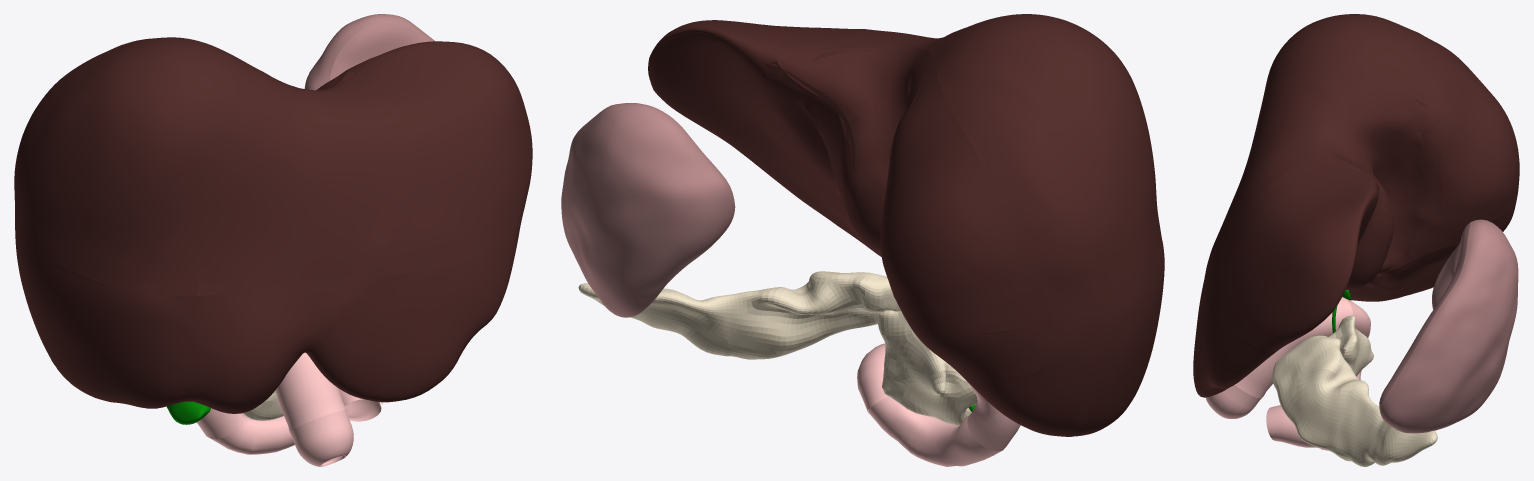
Rendered from hra-female-abdomen-visceral-01.glb.
The picture shows the model from 3 angles, left to right: view 1: azimuth 30°, elevation 25°; view 2: azimuth 150°, elevation 25°; view 3: azimuth 270°, elevation 25°; orthographic projection. The views are drawn at different scales.
Parts seen in each view (by area): view 1: VH_F_capsule_of_the_liver, VH_F_left_superomedial_segment1, VH_F_left_inferomedial_segment, VH_F_right_anterosuperior_segment, VH_F_right_anteroinferior_segment, VH_F_duodenum_superior, VH_F_left_superomedial_segment, VH_F_duodenal_ampulla, VH_F_gastric_surface_of_spleen, VH_F_duodenum_horizontal, VH_F_diaphragmatic_surface_of_spleen, VH_F_duodenum_descending (+4 smaller); view 2: VH_F_capsule_of_the_liver, VH_F_bare_area_of_liver, VH_F_diaphragmatic_surface_of_spleen, VH_F_left_superomedial_segment, VH_F_tail_of_pancreas, VH_F_body_of_pancreas, VH_F_diaphragmatic_surface_of_liver, VH_F_right_posterosuperior_segment, VH_F_caudate_lobe, VH_F_head_of_pancreas, VH_F_duodenum_horizontal, VH_F_gastric_impression_of_liver (+8 smaller); view 3: VH_F_capsule_of_the_liver, VH_F_bare_area_of_liver, VH_F_diaphragmatic_surface_of_spleen, VH_F_caudate_lobe, VH_F_tail_of_pancreas, VH_F_body_of_pancreas, VH_F_left_superomedial_segment1, VH_F_right_posterosuperior_segment, VH_F_diaphragmatic_surface_of_liver, VH_F_duodenum_superior, VH_F_left_superomedial_segment, VH_F_gastric_surface_of_spleen (+7 smaller).
Part boxes in pixels (x1,y1,x2,y2): VH_F_capsule_of_the_liver: (14, 37, 532, 413); VH_F_left_superomedial_segment1: (197, 68, 389, 295); VH_F_left_inferomedial_segment: (184, 277, 357, 412); VH_F_right_anterosuperior_segment: (29, 41, 248, 296); VH_F_right_anteroinferior_segment: (30, 259, 198, 405); VH_F_duodenum_superior: (275, 352, 346, 431); VH_F_left_superomedial_segment: (341, 44, 523, 276); VH_F_duodenal_ampulla: (290, 409, 353, 466); VH_F_gastric_surface_of_spleen: (329, 23, 429, 80); VH_F_duodenum_horizontal: (212, 413, 294, 454); VH_F_diaphragmatic_surface_of_spleen: (304, 14, 434, 90); VH_F_duodenum_descending: (197, 408, 239, 439); VH_F_capsule_of_the_liver: (648, 14, 1164, 436); VH_F_bare_area_of_liver: (776, 47, 1053, 377); VH_F_diaphragmatic_surface_of_spleen: (561, 103, 735, 317); VH_F_left_superomedial_segment: (651, 22, 883, 196); VH_F_tail_of_pancreas: (578, 283, 783, 359); VH_F_body_of_pancreas: (778, 271, 900, 354); VH_F_diaphragmatic_surface_of_liver: (648, 30, 1022, 425); VH_F_right_posterosuperior_segment: (881, 61, 1132, 332); VH_F_caudate_lobe: (799, 47, 929, 251); VH_F_head_of_pancreas: (878, 310, 977, 410); VH_F_duodenum_horizontal: (868, 396, 1001, 466); VH_F_gastric_impression_of_liver: (697, 74, 881, 256); VH_F_capsule_of_the_liver: (1193, 14, 1475, 397); VH_F_bare_area_of_liver: (1324, 69, 1519, 272); VH_F_diaphragmatic_surface_of_spleen: (1381, 219, 1518, 433); VH_F_caudate_lobe: (1323, 91, 1445, 289); VH_F_tail_of_pancreas: (1315, 381, 1437, 466); VH_F_body_of_pancreas: (1272, 335, 1363, 446); VH_F_left_superomedial_segment1: (1218, 61, 1340, 234); VH_F_right_posterosuperior_segment: (1403, 29, 1516, 221); VH_F_diaphragmatic_surface_of_liver: (1203, 185, 1446, 395); VH_F_duodenum_superior: (1235, 297, 1353, 398); VH_F_left_superomedial_segment: (1206, 158, 1378, 349); VH_F_gastric_surface_of_spleen: (1379, 222, 1470, 405).
Size of the model in its own units: 0.2612 by 0.2138 by 0.1663.
